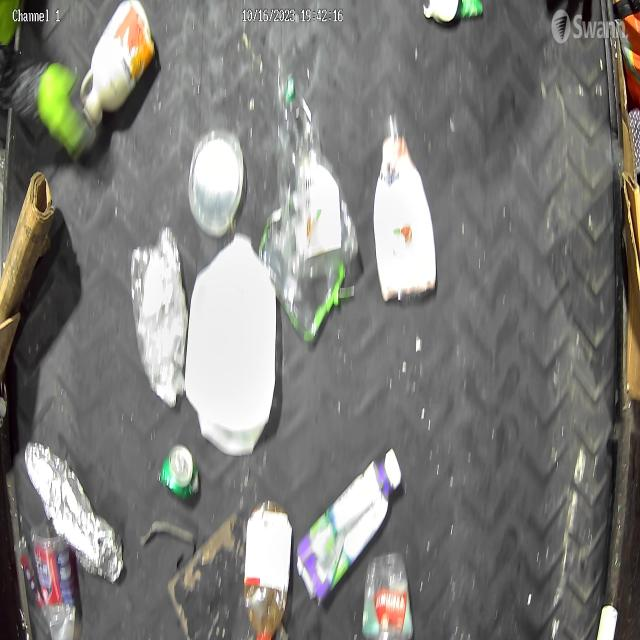can: (156, 443, 201, 500)
milk_jug: (185, 231, 277, 457)
